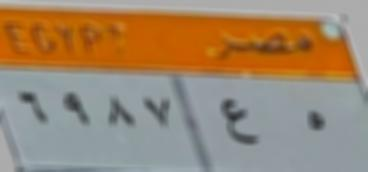6: (16, 86, 49, 136)
7: (141, 92, 177, 132)
8: (104, 93, 134, 138)
9: (55, 87, 93, 129)
ain: (219, 92, 262, 157)
haa: (301, 100, 330, 140)
